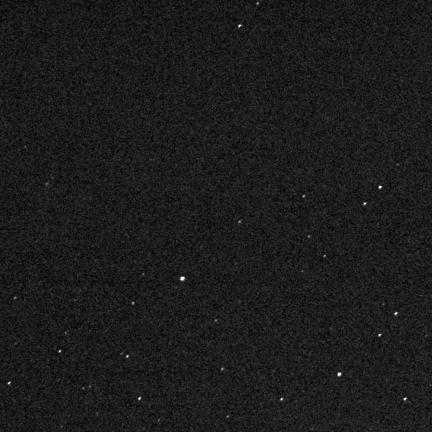blob: (180, 277, 185, 281), (395, 312, 399, 316), (379, 186, 383, 190), (364, 202, 367, 206), (338, 373, 341, 376)
